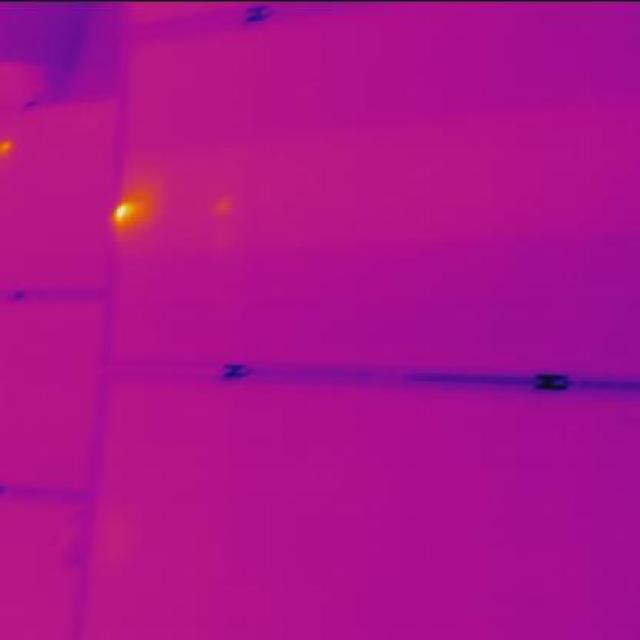hotspot: (106, 191, 152, 231)
